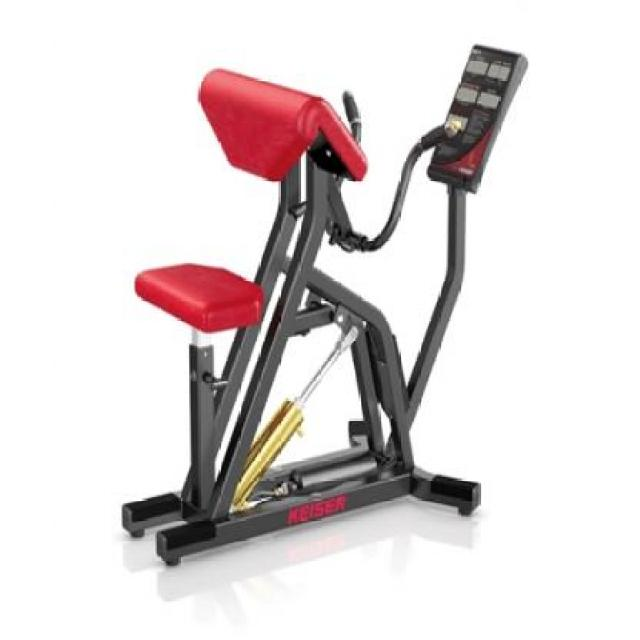arm curl machine: (122, 45, 529, 568)
